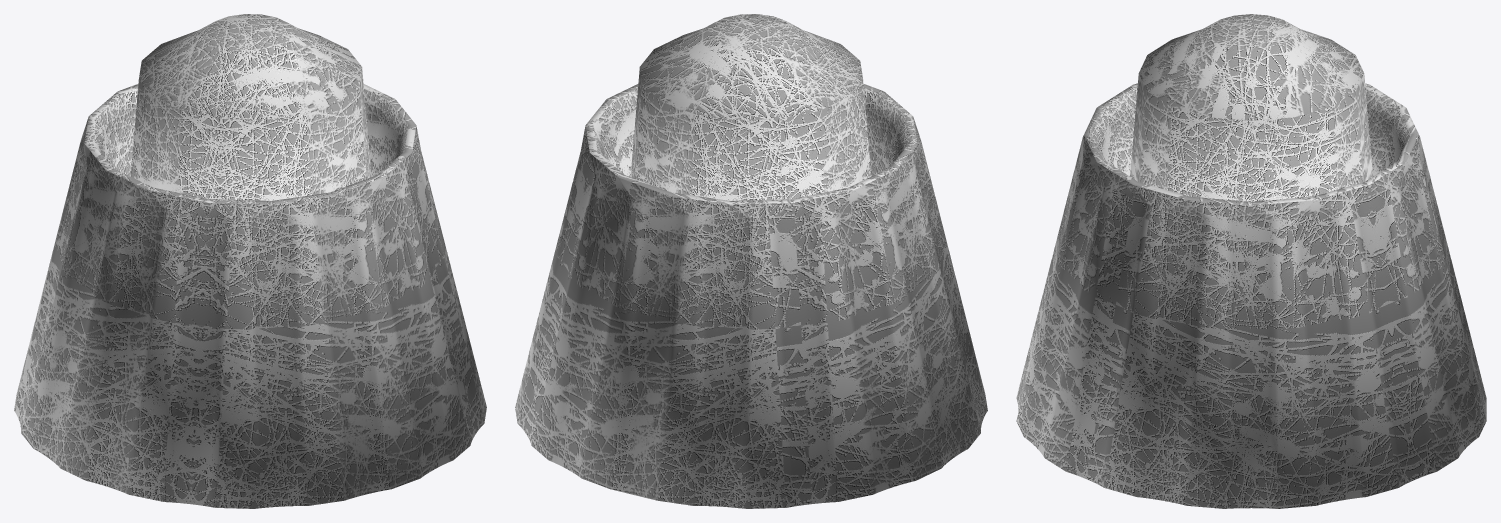
The model's file is Spiderweb.fbx.
The picture shows the model from 3 angles, left to right: view 1: azimuth 30°, elevation 25°; view 2: azimuth 150°, elevation 25°; view 3: azimuth 270°, elevation 25°; orthographic projection.
Visible parts, largest first — view 1: Cylinder; view 2: Cylinder; view 3: Cylinder.
Part boxes in pixels (bbox=[...]): Cylinder: bbox=[14, 14, 486, 508]; Cylinder: bbox=[515, 14, 987, 508]; Cylinder: bbox=[1016, 14, 1486, 508].
Size of the model in its own units: 2.86 by 2.55 by 2.86.
